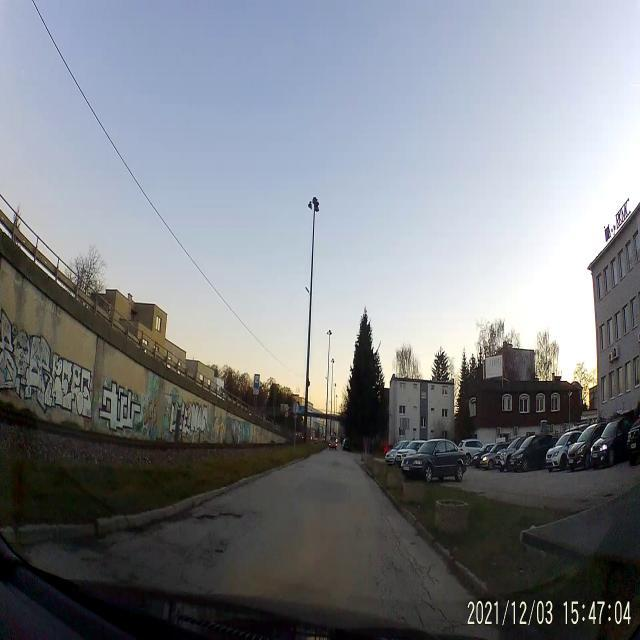Pothole: (192, 505, 246, 523), (212, 544, 226, 558)
